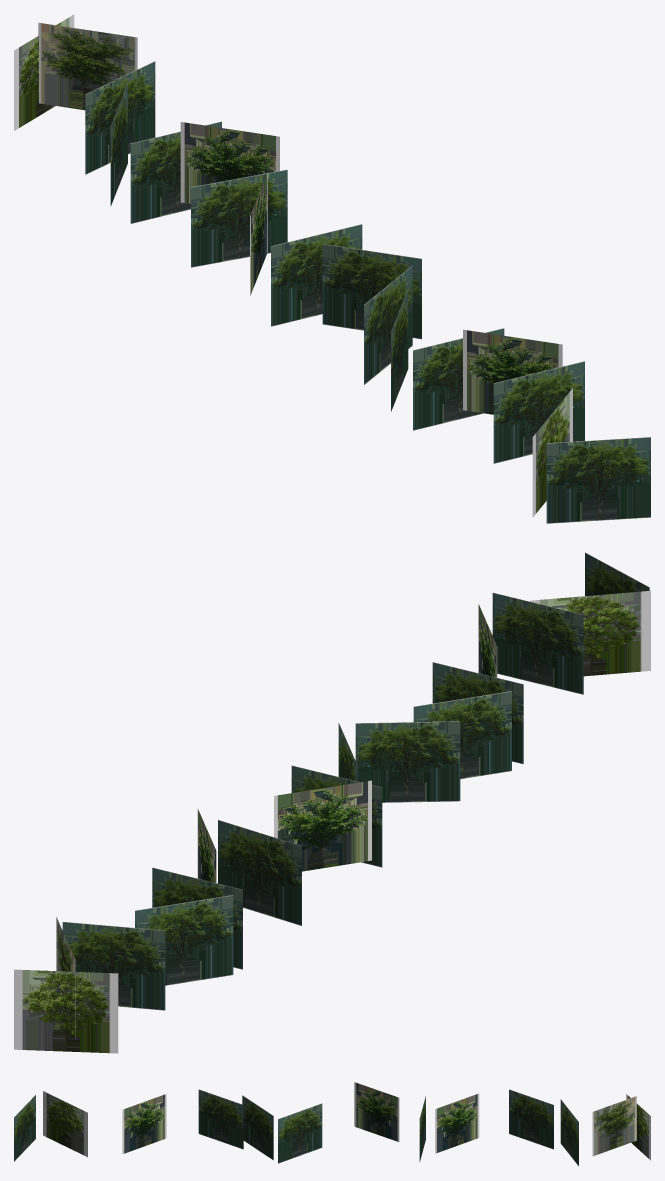
Rendered from AMB_UEKOMI.glb.
The picture shows the model from 3 angles, top to bottom: view 1: azimuth 30°, elevation 25°; view 2: azimuth 150°, elevation 25°; view 3: azimuth 270°, elevation 25°; orthographic projection. The views are drawn at different scales.
Visible parts, largest first — view 1: obj66, obj71, obj73, obj69, obj75, obj72, obj74, obj70; view 2: obj66, obj72, obj70, obj74, obj75, obj69, obj73, obj71; view 3: obj70, obj66, obj74, obj75, obj72, obj73, obj69, obj71.
Part boxes in pixels (box(x1,y1,x2,y2)): obj66: box(493, 361, 650, 523); obj71: box(271, 224, 421, 339); obj73: box(130, 121, 279, 223); obj69: box(413, 328, 562, 430); obj75: box(14, 14, 137, 130); obj72: box(191, 169, 287, 296); obj74: box(85, 61, 155, 206); obj70: box(364, 265, 412, 411); obj66: box(492, 552, 650, 694); obj72: box(218, 780, 371, 925); obj70: box(355, 691, 511, 802); obj74: box(62, 895, 233, 1010); obj75: box(14, 917, 118, 1053); obj69: box(432, 603, 523, 764); obj73: box(152, 808, 242, 969); obj71: box(291, 723, 382, 867); obj70: box(198, 1089, 273, 1160); obj66: box(14, 1091, 87, 1161); obj74: box(509, 1089, 578, 1166); obj75: box(592, 1094, 650, 1160); obj72: box(354, 1082, 425, 1162); obj73: box(435, 1093, 479, 1153); obj69: box(122, 1094, 166, 1154); obj71: box(278, 1103, 322, 1163).
Size of the model in its own units: 11.05 by 9.92 by 102.
13 materials, 13 textured.
